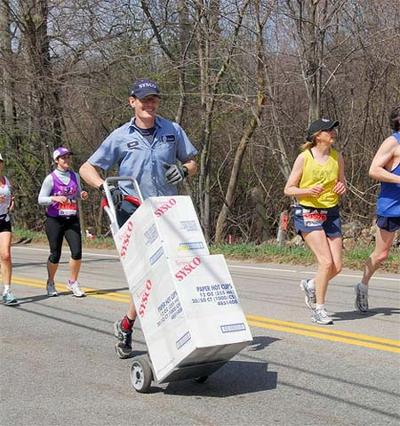person: (79, 78, 201, 360)
